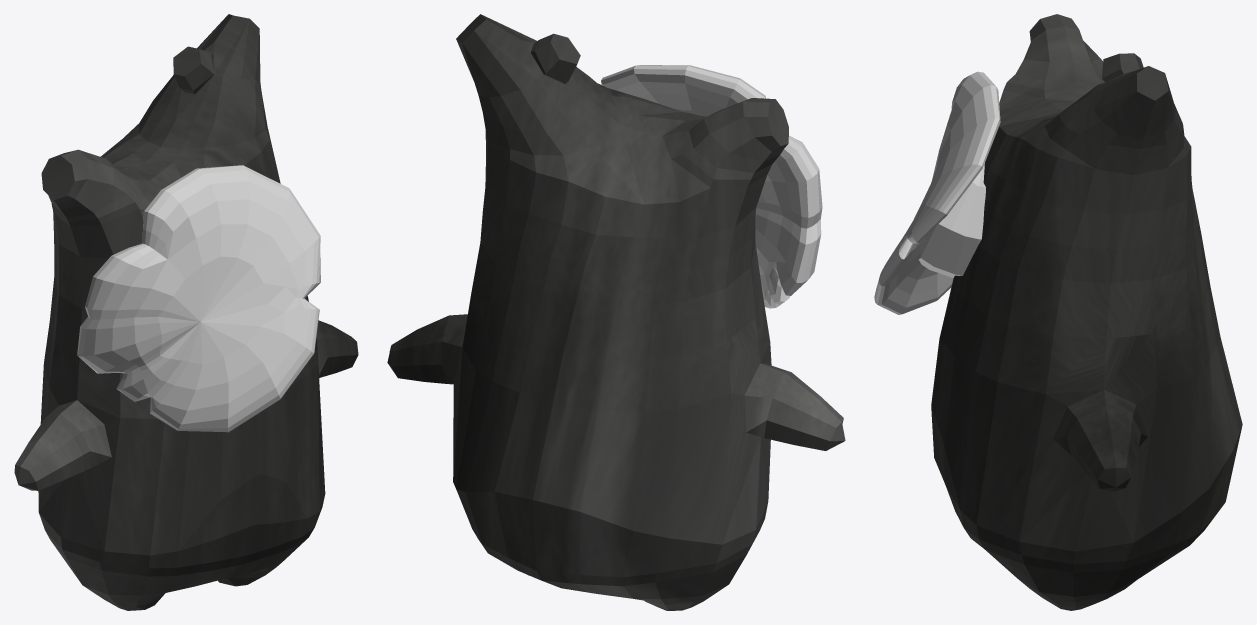
File: frame_0051.obj
3 renders of one model, left to right at view 1: azimuth 30°, elevation 25°; view 2: azimuth 150°, elevation 25°; view 3: azimuth 270°, elevation 25°, orthographic. The views are drawn at different scales.
Visible parts, largest first — view 1: korok, leaf; view 2: korok, leaf; view 3: korok, leaf, nose.
Part boxes in pixels (x1,y1,x2,y2): korok: [14, 14, 358, 610]; leaf: [77, 165, 320, 432]; korok: [387, 14, 845, 610]; leaf: [601, 65, 822, 308]; korok: [931, 14, 1242, 610]; leaf: [874, 71, 1000, 314]; nose: [918, 163, 985, 277].
Bounding box in the file's own units: 1.7 × 2.3 × 1.38.
